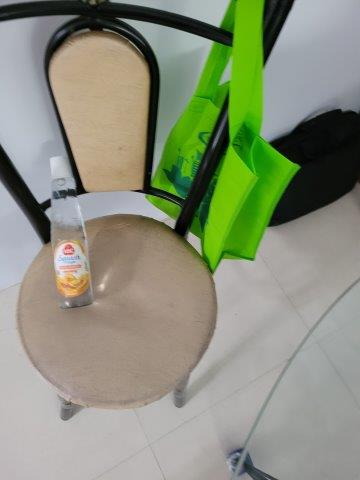botolkaca: (49, 155, 94, 309)
